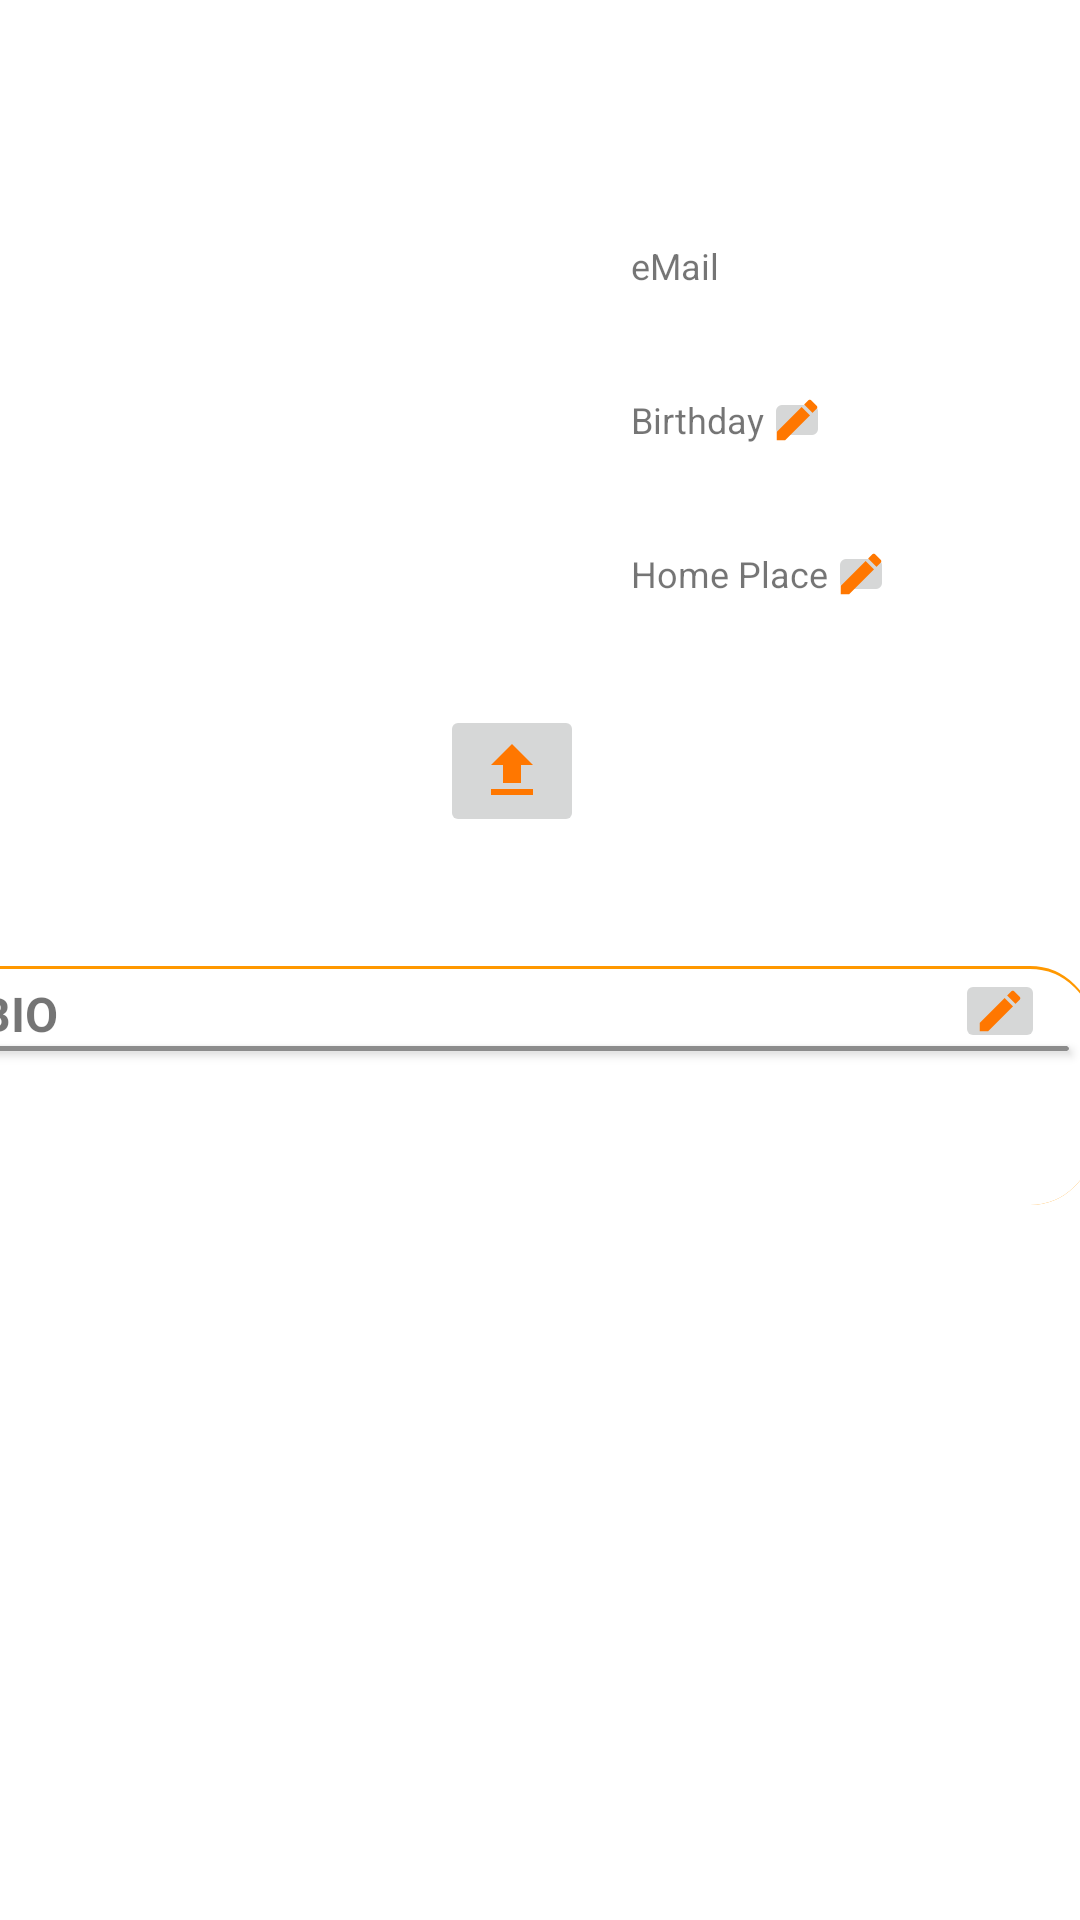

Named icons in this screenshot (1080 × 1920) and their centers, [x,y]:
edit: [797,420], [861,574], [1000,1011]
file upload: [512,771]
